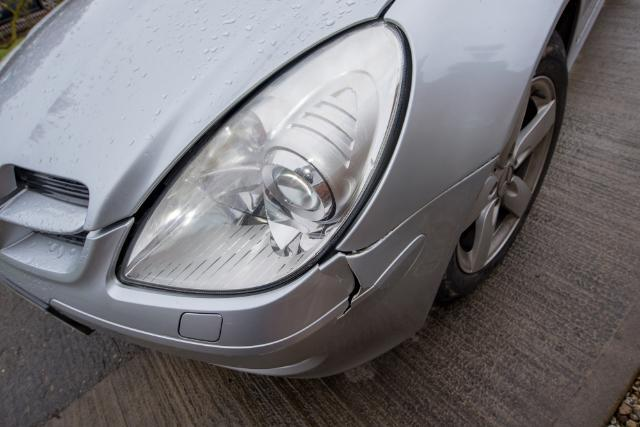crack: (336, 256, 387, 324), (295, 267, 343, 305)
